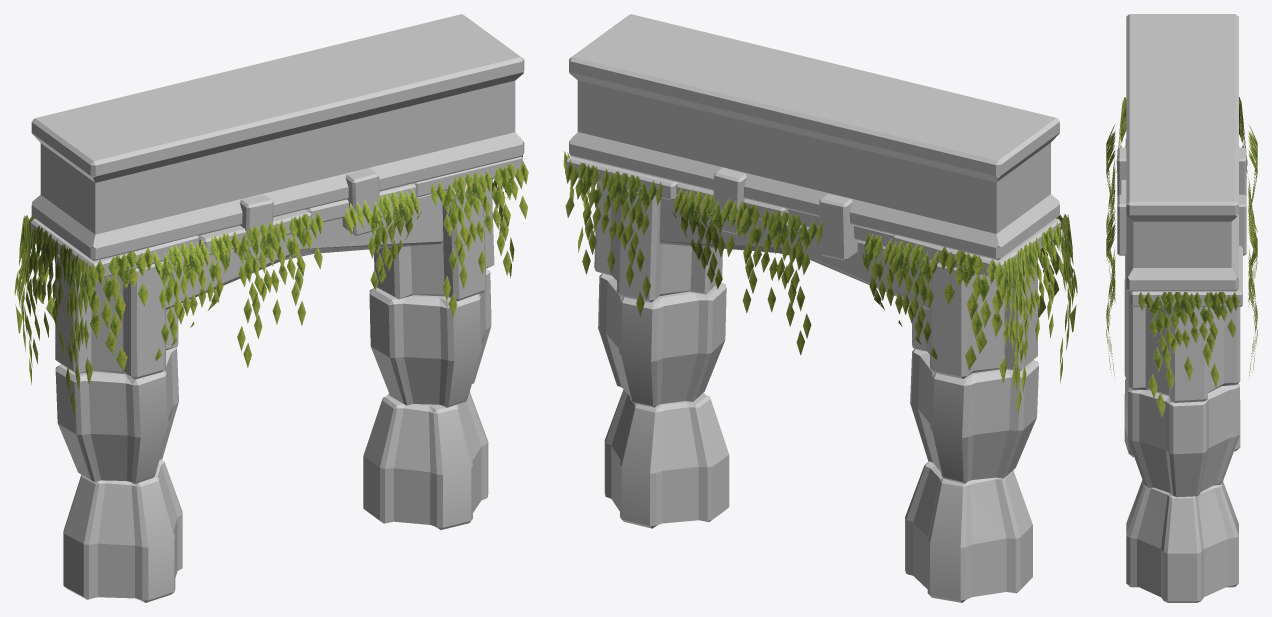
File: columns_4x4.FBX
The picture shows the model from 3 angles, left to right: view 1: azimuth 30°, elevation 25°; view 2: azimuth 150°, elevation 25°; view 3: azimuth 270°, elevation 25°; orthographic projection. The views are drawn at different scales.
Visible parts, largest first — view 1: columns_4x4; view 2: columns_4x4; view 3: columns_4x4.
Boxes of the visible parts, x1,y1,x2,y2 form: columns_4x4: [14, 14, 528, 602]; columns_4x4: [563, 14, 1077, 602]; columns_4x4: [1106, 14, 1257, 602].
Size of the model in its own units: 420 by 134 by 400.
